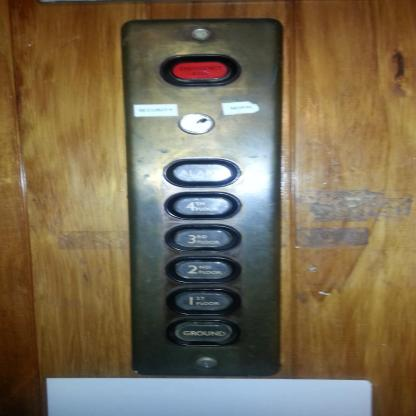1: (166, 285, 242, 315)
2: (165, 256, 242, 283)
3: (165, 224, 241, 252)
4: (163, 191, 241, 220)
keyhole: (177, 113, 215, 135)
text_alarm bell: (162, 158, 241, 187)
text_emergency: (159, 54, 242, 86)
text_ground: (165, 317, 241, 346)
